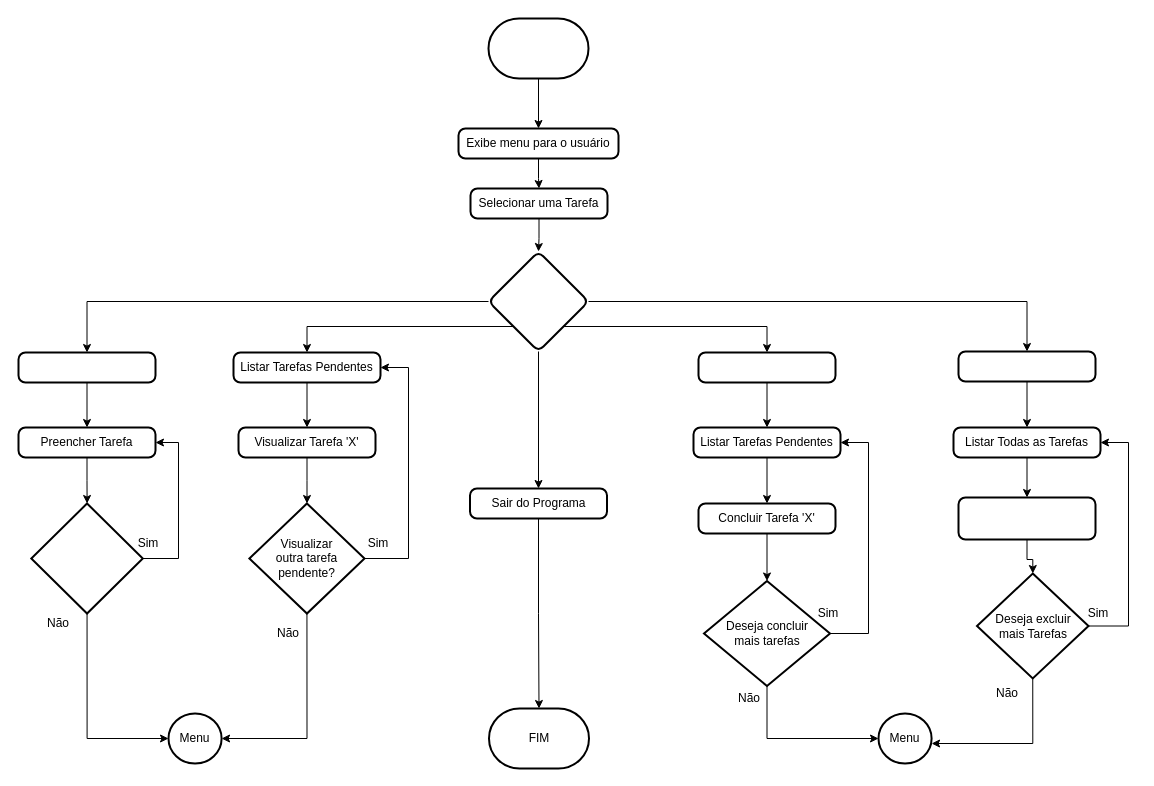
This 1154x786 diagram has some shape labels left out. The centre of each missing label's shape, as x and y in pixels:
Adicionar mais uma tarefa?: (86,558)
Adicionar Tarefa: (86,367)
Concluir Terefas: (766,367)
Escolhe uma tarefa: (538,301)
Excluir Tarefa: (1026,366)
INÍCIO: (538,48)
Selecione a Tarefa que deseja excluir: (1026,518)
